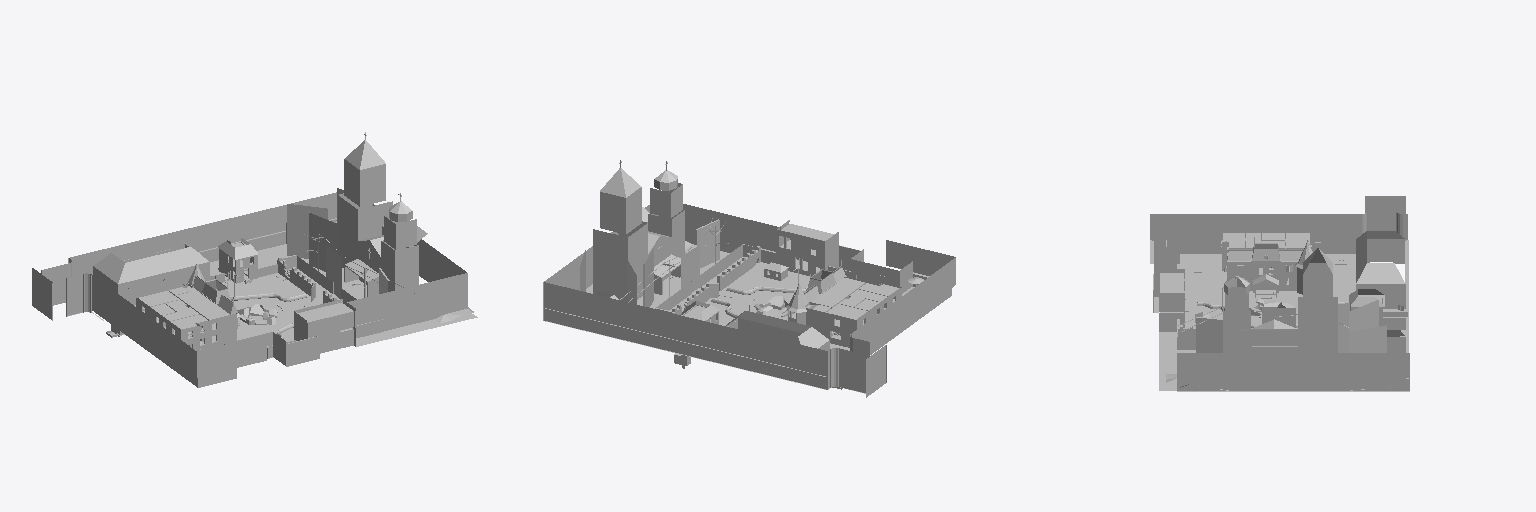
Rendered from mansion2.obj.
3 renders of one model, left to right at view 1: azimuth 30°, elevation 25°; view 2: azimuth 150°, elevation 25°; view 3: azimuth 270°, elevation 25°, orthographic.
Visible parts, largest first — view 1: mansion2; view 2: mansion2; view 3: mansion2.
Part boxes in pixels (x1,y1,x2,y2): mansion2: (32,132,477,387); mansion2: (543,160,955,397); mansion2: (1150,196,1409,391).
Size of the model in its own units: 92.08 by 42.75 by 64.05.